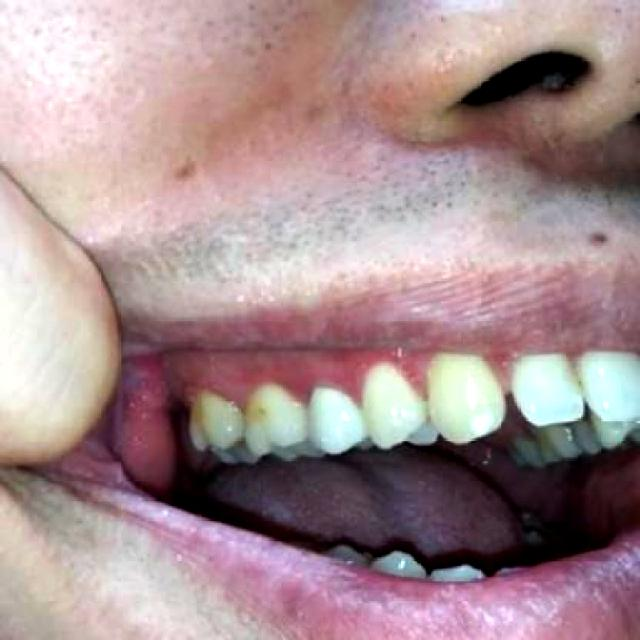Plaque: (176, 374, 206, 407), (254, 405, 271, 421)
